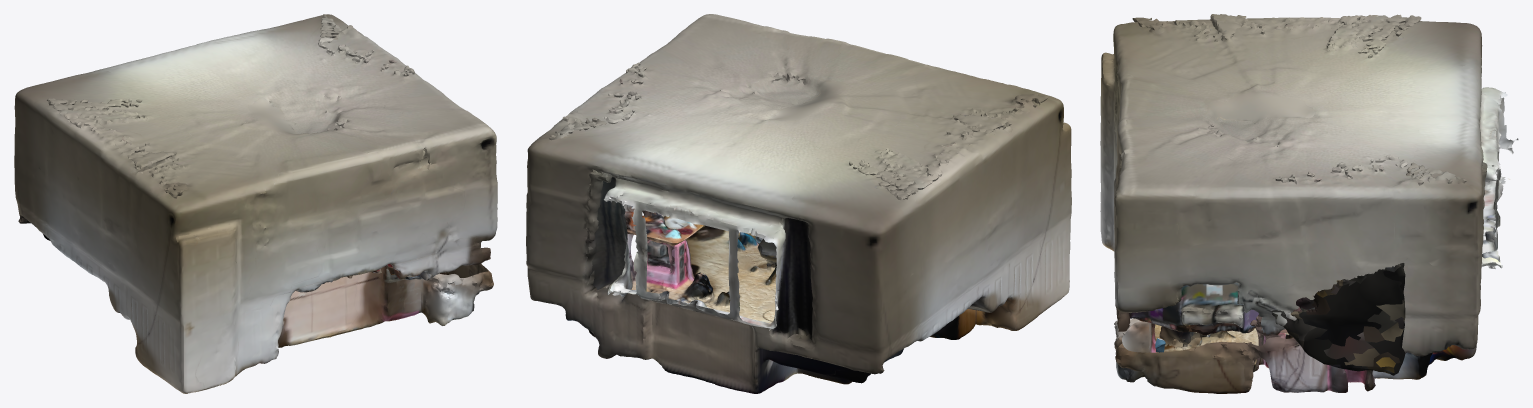
The model's file is Room Scan.fbx.
The picture shows the model from 3 angles, left to right: view 1: azimuth 30°, elevation 25°; view 2: azimuth 150°, elevation 25°; view 3: azimuth 270°, elevation 25°; orthographic projection. The views are drawn at different scales.
Visible parts, largest first — view 1: poly; view 2: poly; view 3: poly.
Part boxes in pixels (x1=…): poly: x1=14, y1=14, x2=497, y2=393; poly: x1=526, y1=14, x2=1071, y2=393; poly: x1=1100, y1=14, x2=1518, y2=393.
Size of the model in its own units: 483 by 253 by 443.
Materials: 1 (1 with a texture image).
